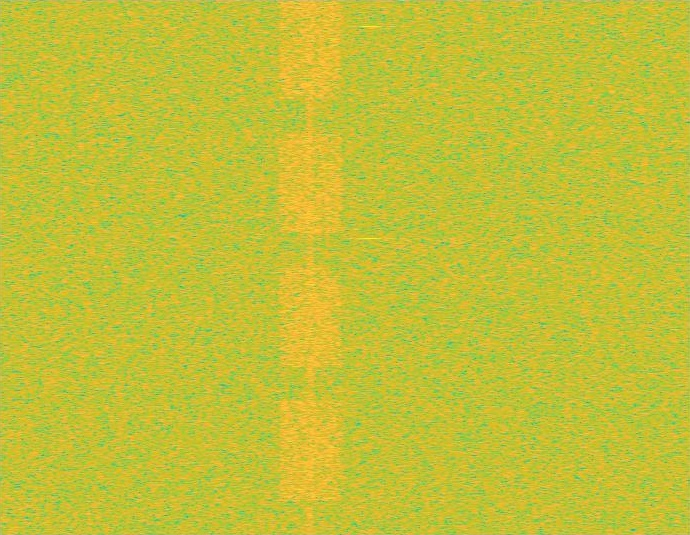5G: (276, 0, 345, 534)
DSSS: (306, 0, 315, 534)
Radar: (364, 0, 378, 534)
